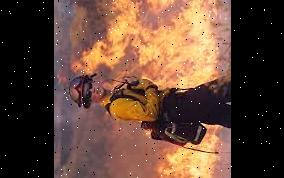fire: (58, 0, 230, 86), (86, 127, 231, 178)
